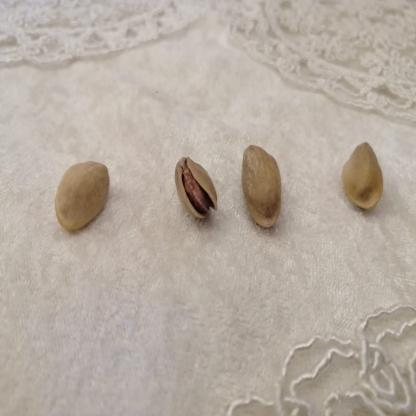pistachio: (167, 153, 227, 228), (236, 143, 283, 236), (55, 159, 113, 234), (338, 135, 391, 214)
